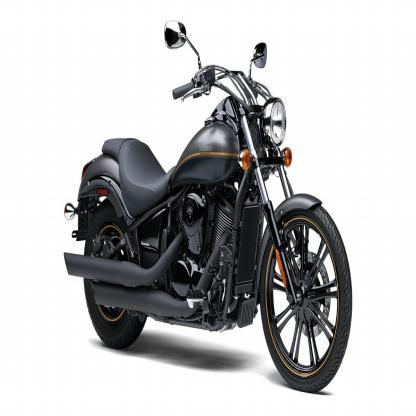Motorcycle: (57, 3, 358, 393)
